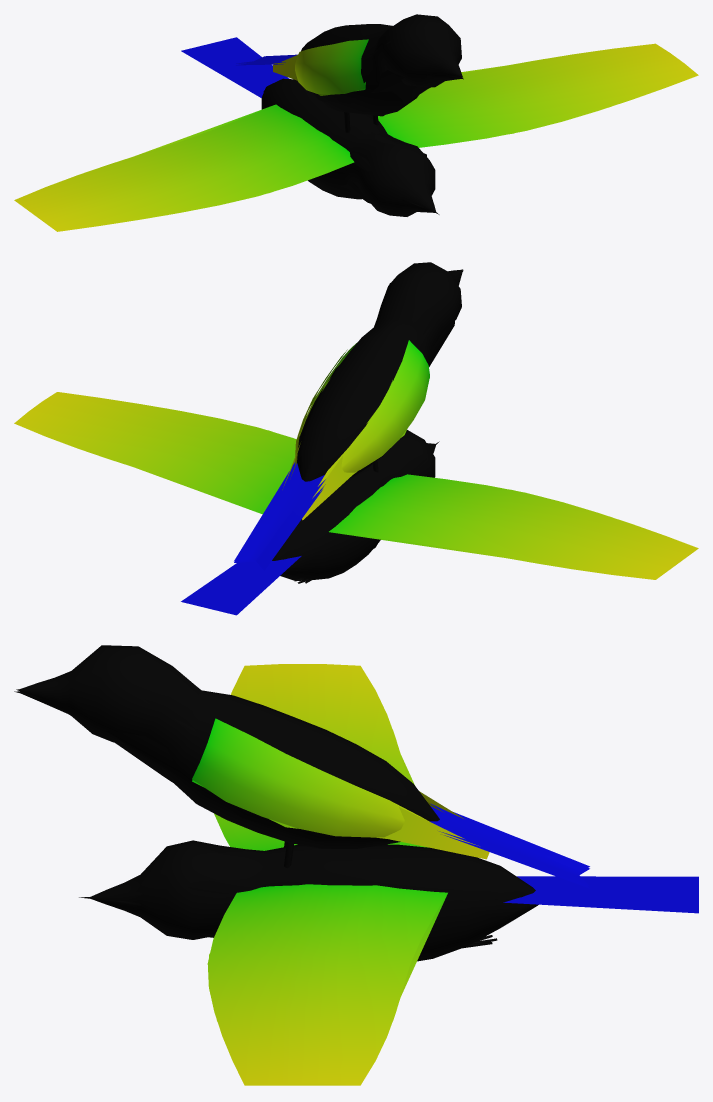
The model's file is sparrow_f.glb.
The picture shows the model from 3 angles, top to bottom: view 1: azimuth 30°, elevation 25°; view 2: azimuth 150°, elevation 25°; view 3: azimuth 270°, elevation 25°; orthographic projection. The views are drawn at different scales.
Parts seen in each view (by area): view 1: fly0, stand0, fly2, stand1, fly1; view 2: fly0, stand0, fly2, stand1, fly1; view 3: fly0, stand0, fly2, stand1, fly1.
Boxes of the visible parts, <box> form: fly0: <box>14,43,698,231</box>; stand0: <box>236,14,462,182</box>; fly2: <box>22,37,502,227</box>; stand1: <box>236,40,463,131</box>; fly1: <box>17,59,543,230</box>; fly0: <box>14,392,698,583</box>; stand0: <box>234,262,462,568</box>; fly2: <box>139,441,688,615</box>; stand1: <box>234,270,463,570</box>; fly1: <box>137,408,694,579</box>; fly0: <box>90,664,538,1085</box>; stand0: <box>16,645,589,886</box>; fly2: <box>79,754,698,1085</box>; stand1: <box>14,691,589,888</box>; fly1: <box>89,730,536,1085</box>.
Bounding box in the file's own units: 0.24 × 0.0833 × 0.1655.
